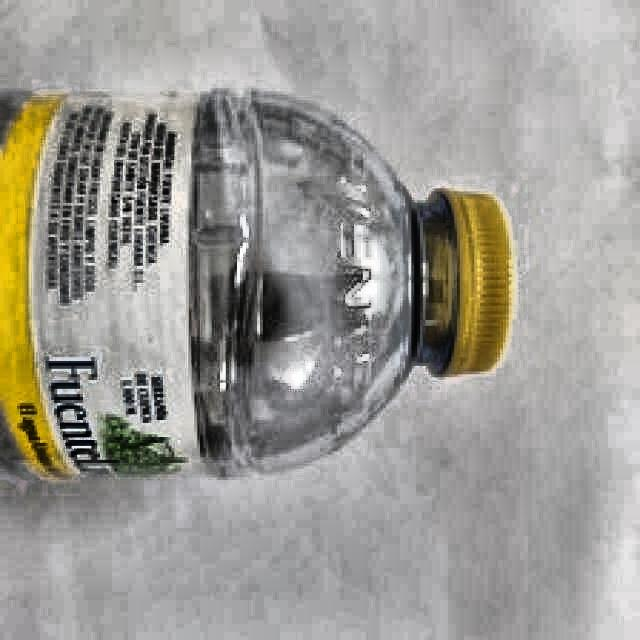plastic bottle: (1, 84, 518, 485)
